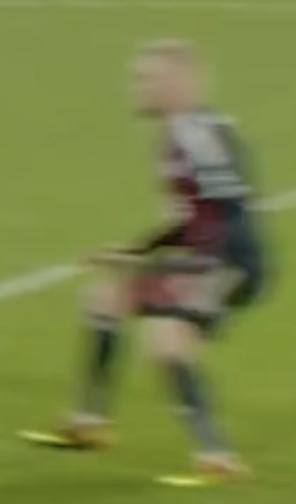goalkeeper: (8, 14, 296, 504)
